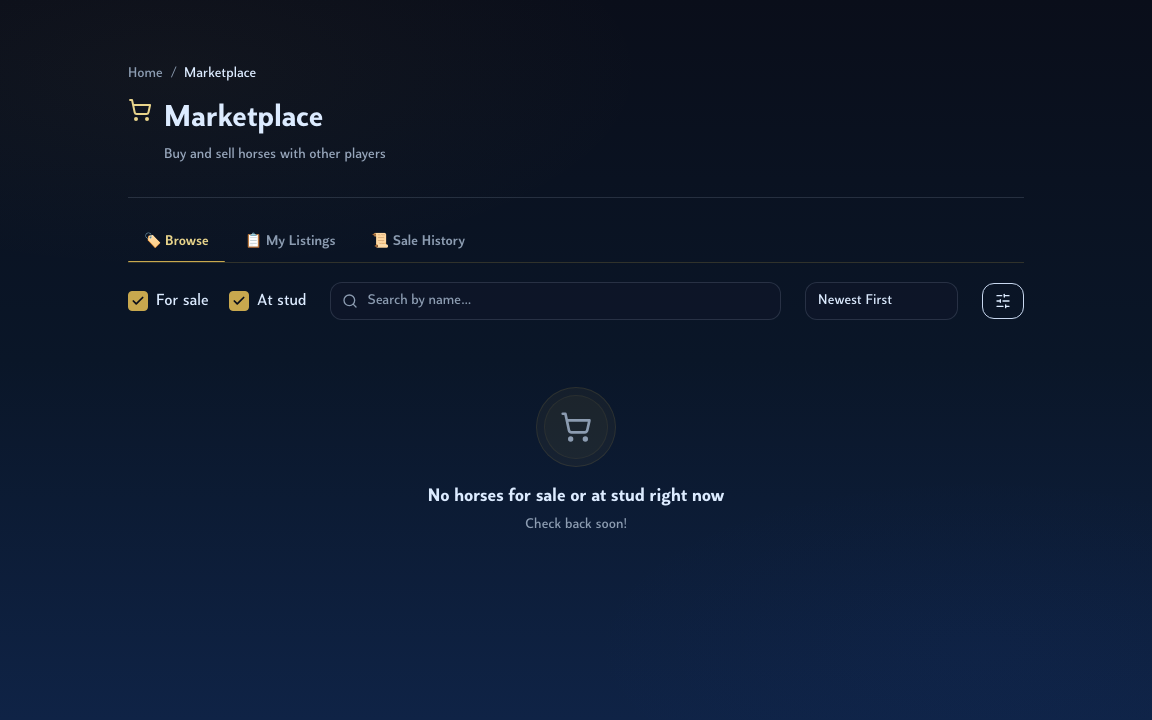
Test: HorseMarketplacePage — My Listings + History tabs four-state (Equoria-l22ki) › My Listings: renders the honest empty state on a successful empty fetch
The image size is (1152, 720).
Click the tab with test id "tab-my-listings" at (290, 242), box [229,222,352,262]
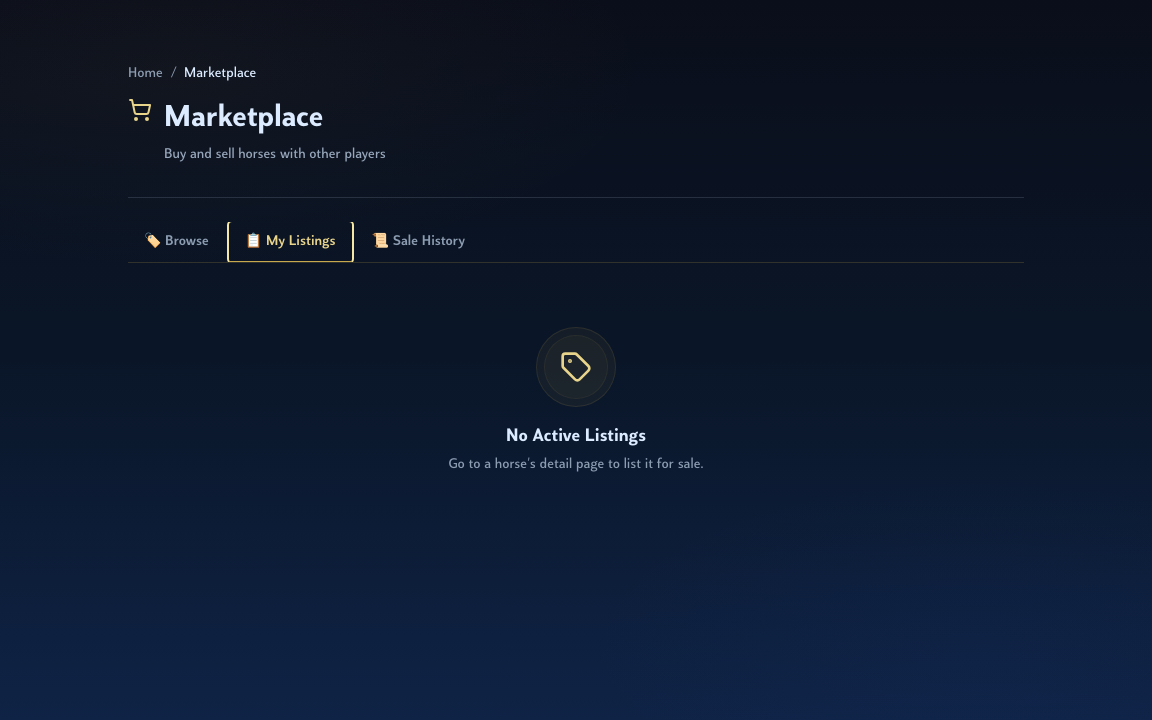
Now the heading "No Active Listings" is shown, box [506,423,646,450]
